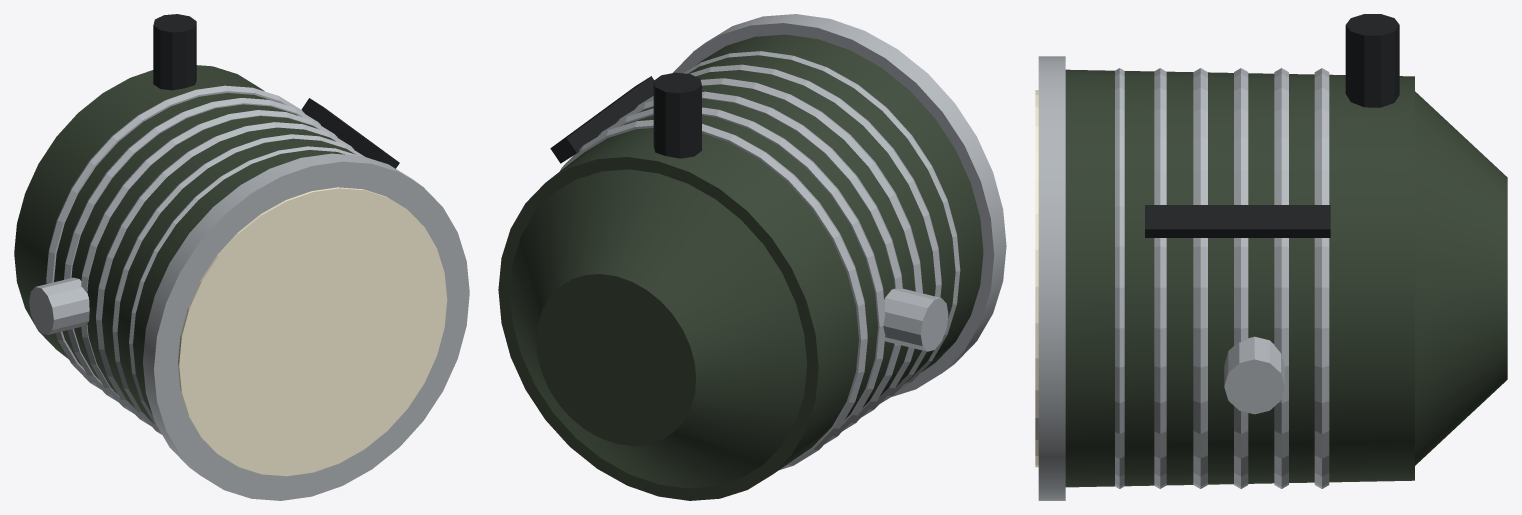
The model's file is searchlight-drum.glb.
The picture shows the model from 3 angles, left to right: view 1: azimuth 30°, elevation 25°; view 2: azimuth 150°, elevation 25°; view 3: azimuth 270°, elevation 25°; orthographic projection. The views are drawn at different scales.
Parts seen in each view (by area): view 1: glow_lens2, paint0, steel1, steel3_1, steel3_2, trim5, steel3_4, steel3_3, steel6, steel3_5, steel3_6, trim8; view 2: paint4, paint0, steel1, steel3_1, steel3_2, trim5, steel3_3, steel6, steel3_4, steel3_5, steel3_6, trim8; view 3: paint0, paint4, steel1, steel3_1, trim8, steel3_4, steel3_2, steel3_5, trim5, steel3_3, steel3_6, steel7 (+1 smaller).
Part boxes in pixels (left/top/right/bottom): glow_lens2: left=178, top=187, right=447, bottom=476; paint0: left=14, top=65, right=355, bottom=428; steel1: left=143, top=153, right=469, bottom=500; steel3_1: left=46, top=85, right=304, bottom=389; steel3_2: left=64, top=98, right=320, bottom=401; trim5: left=153, top=14, right=196, bottom=90; steel3_4: left=96, top=122, right=354, bottom=426; steel3_3: left=81, top=110, right=337, bottom=413; steel6: left=29, top=277, right=89, bottom=334; steel3_5: left=112, top=134, right=364, bottom=434; steel3_6: left=129, top=146, right=357, bottom=428; trim8: left=301, top=98, right=399, bottom=168; paint4: left=510, top=169, right=806, bottom=488; paint0: left=498, top=34, right=983, bottom=500; steel1: left=673, top=14, right=1006, bottom=396; steel3_1: left=560, top=120, right=867, bottom=470; steel3_2: left=598, top=107, right=885, bottom=444; trim5: left=653, top=72, right=701, bottom=158; steel3_3: left=616, top=91, right=902, bottom=430; steel6: left=883, top=288, right=948, bottom=351; steel3_4: left=635, top=78, right=922, bottom=417; steel3_5: left=689, top=64, right=941, bottom=403; steel3_6: left=683, top=51, right=960, bottom=389; trim8: left=550, top=76, right=654, bottom=163; paint0: left=1065, top=69, right=1414, bottom=487; paint4: left=1415, top=91, right=1507, bottom=465; steel1: left=1038, top=56, right=1065, bottom=500; steel3_1: left=1314, top=68, right=1329, bottom=488; trim8: left=1145, top=205, right=1330, bottom=237; steel3_4: left=1193, top=68, right=1207, bottom=488; steel3_2: left=1274, top=68, right=1288, bottom=488; steel3_5: left=1154, top=68, right=1166, bottom=488; trim5: left=1345, top=14, right=1399, bottom=107; steel3_3: left=1234, top=68, right=1248, bottom=488; steel3_6: left=1115, top=68, right=1124, bottom=488; steel7: left=1224, top=336, right=1284, bottom=414.
Size of the model in its own units: 1.52 by 1.49 by 1.4.
